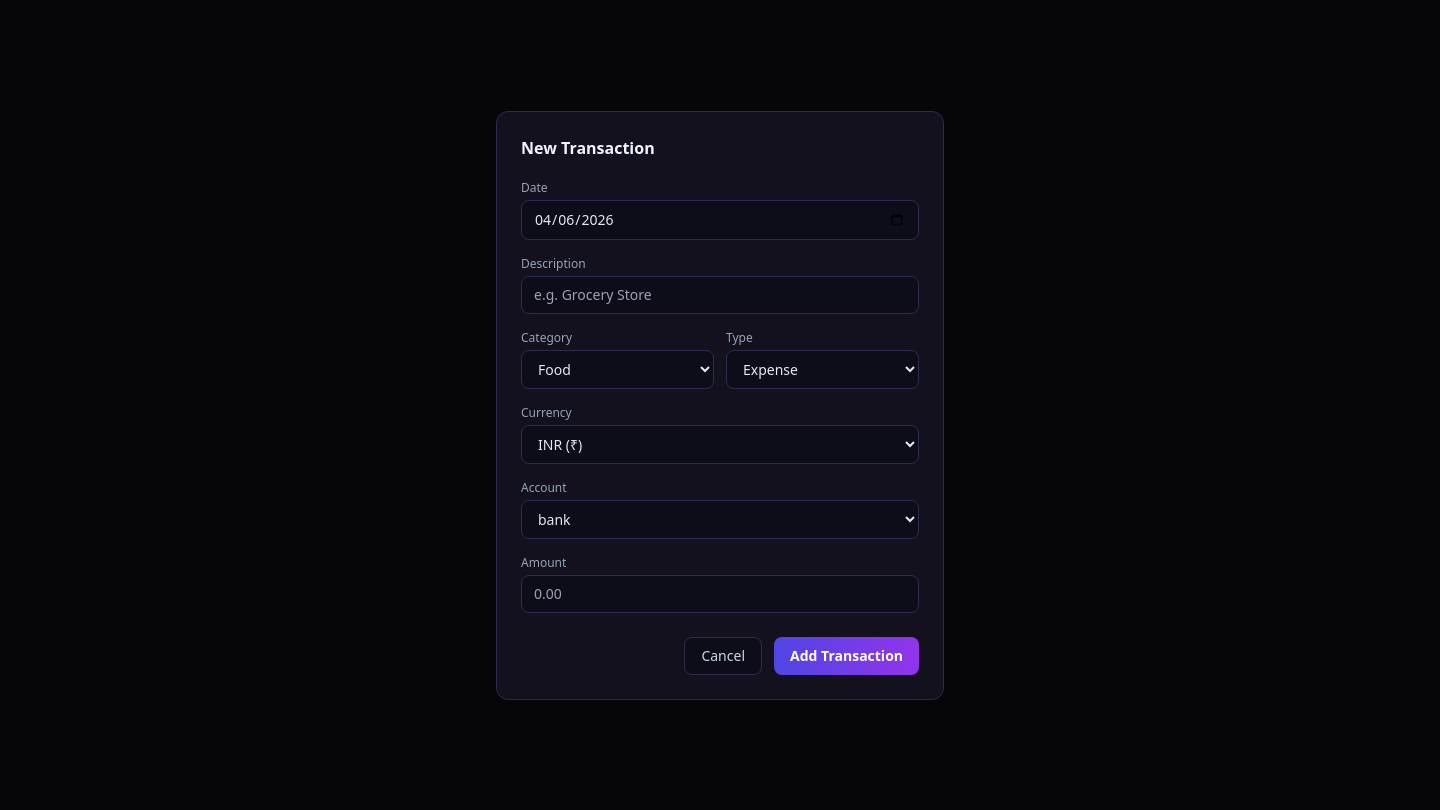
Test: AddTransactionModal › shows validation error when description is empty
The width and height of the screenshot is (1440, 810).
Click the button "Add Transaction": (846, 656) [774,636,919,674]
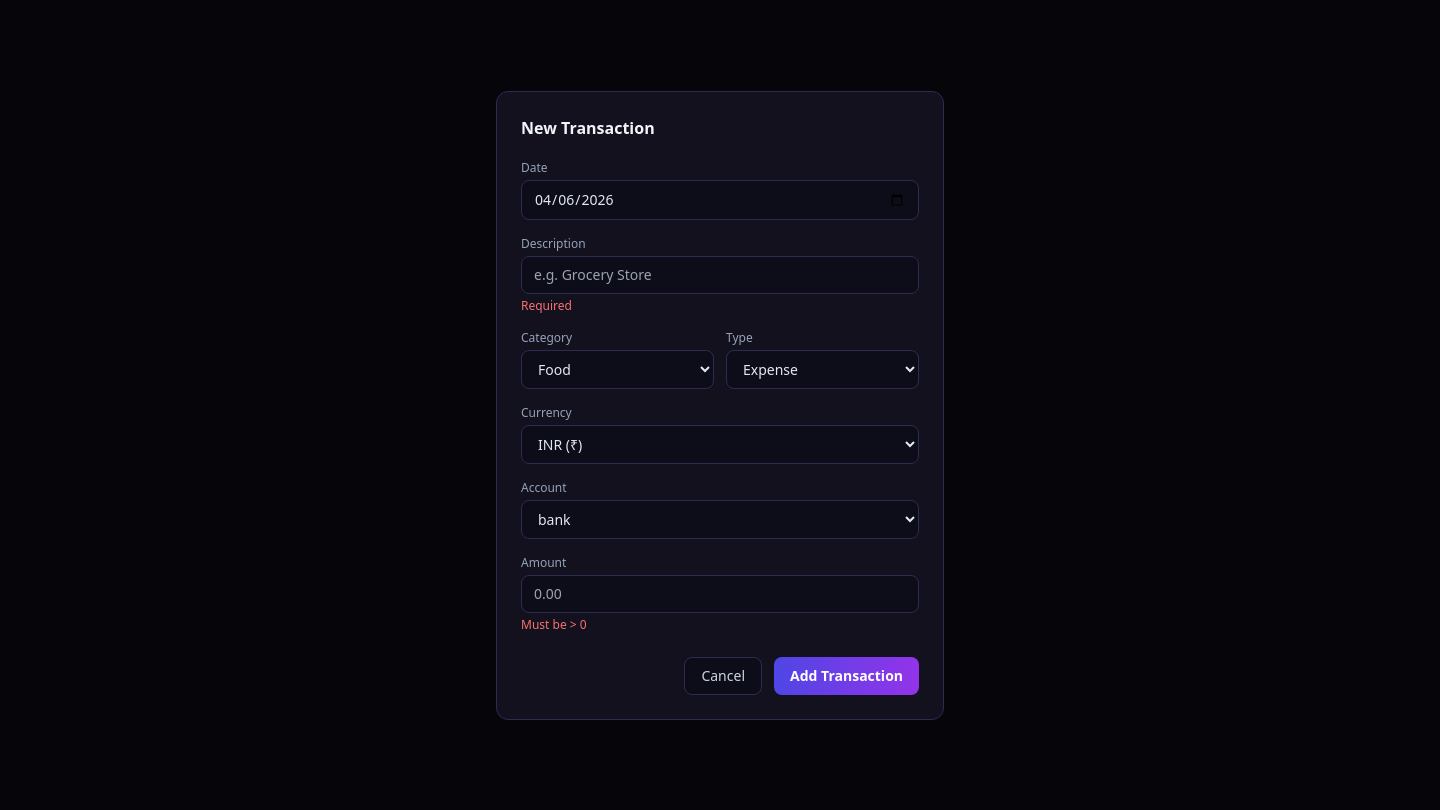
Check: the text "Required" is shown, box [521,296,572,314]
